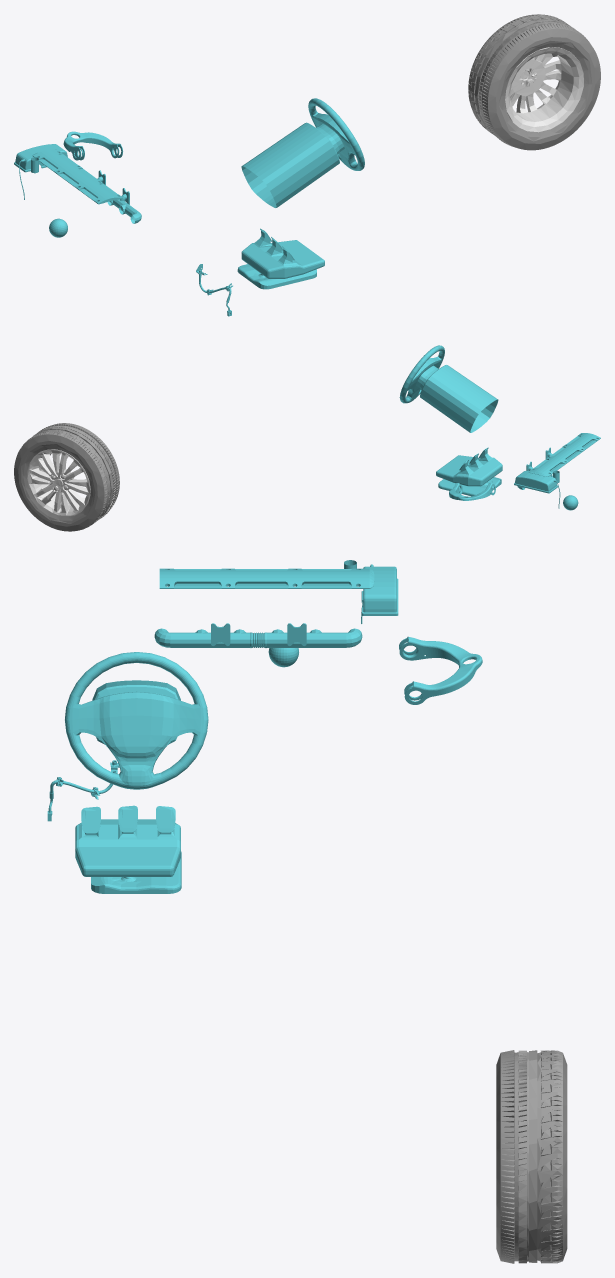
File: sensor.glb
3 views of the same model, one above another, from view 1: azimuth 30°, elevation 25°; view 2: azimuth 150°, elevation 25°; view 3: azimuth 270°, elevation 25° (orthographic). The views are drawn at different scales.
Parts seen in each view (by area): view 1: Wheel, Steering_Angle_Sensor, Acceleration_Sensor, Mass_Air_Flow, Camshaft_Position, Oxygen_Sensor, Intake_Air_Temperature; view 2: Wheel, Steering_Angle_Sensor, Acceleration_Sensor, Mass_Air_Flow, Oxygen_Sensor, Camshaft_Position; view 3: Wheel, Steering_Angle_Sensor, Acceleration_Sensor, Mass_Air_Flow, Intake_Air_Temperature, Camshaft_Position, Oxygen_Sensor.
Boxes of the visible parts, box(x1,y1,x2,y2) form: Wheel: box(468, 14, 600, 150); Steering_Angle_Sensor: box(241, 98, 364, 207); Acceleration_Sensor: box(237, 228, 324, 289); Mass_Air_Flow: box(32, 149, 122, 204); Camshaft_Position: box(63, 131, 123, 160); Oxygen_Sensor: box(14, 144, 67, 199); Intake_Air_Temperature: box(97, 170, 141, 223); Wheel: box(14, 423, 119, 531); Steering_Angle_Sensor: box(399, 345, 498, 432); Acceleration_Sensor: box(436, 447, 502, 496); Mass_Air_Flow: box(528, 433, 600, 476); Oxygen_Sensor: box(514, 471, 560, 508); Camshaft_Position: box(449, 483, 495, 500); Wheel: box(496, 1050, 567, 1263); Steering_Angle_Sensor: box(65, 652, 208, 789); Acceleration_Sensor: box(75, 805, 181, 893); Mass_Air_Flow: box(159, 568, 374, 588); Intake_Air_Temperature: box(154, 623, 362, 647); Camshaft_Position: box(399, 636, 482, 704); Oxygen_Sensor: box(361, 564, 398, 623).
Size of the model in its own units: 2.64 by 0.86 by 1.19.
